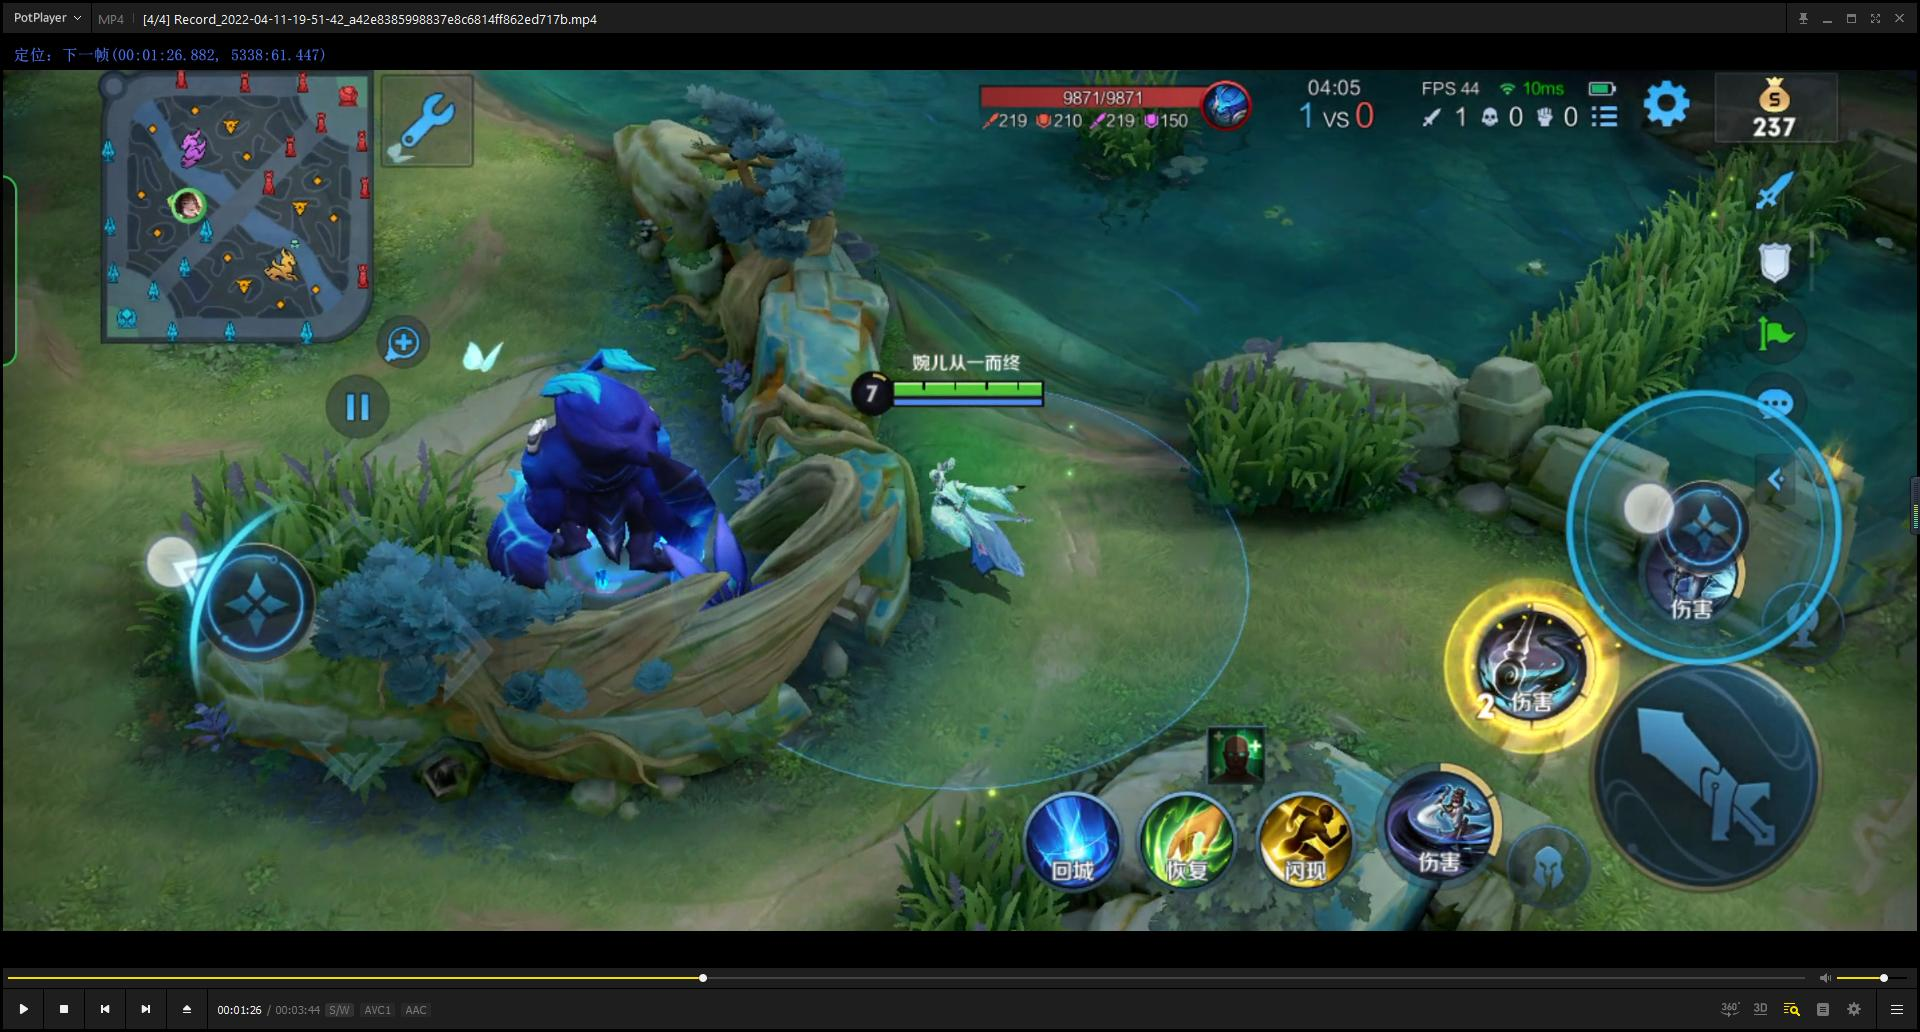Buff: (464, 327, 718, 588)
Hero: (900, 447, 1070, 616)
